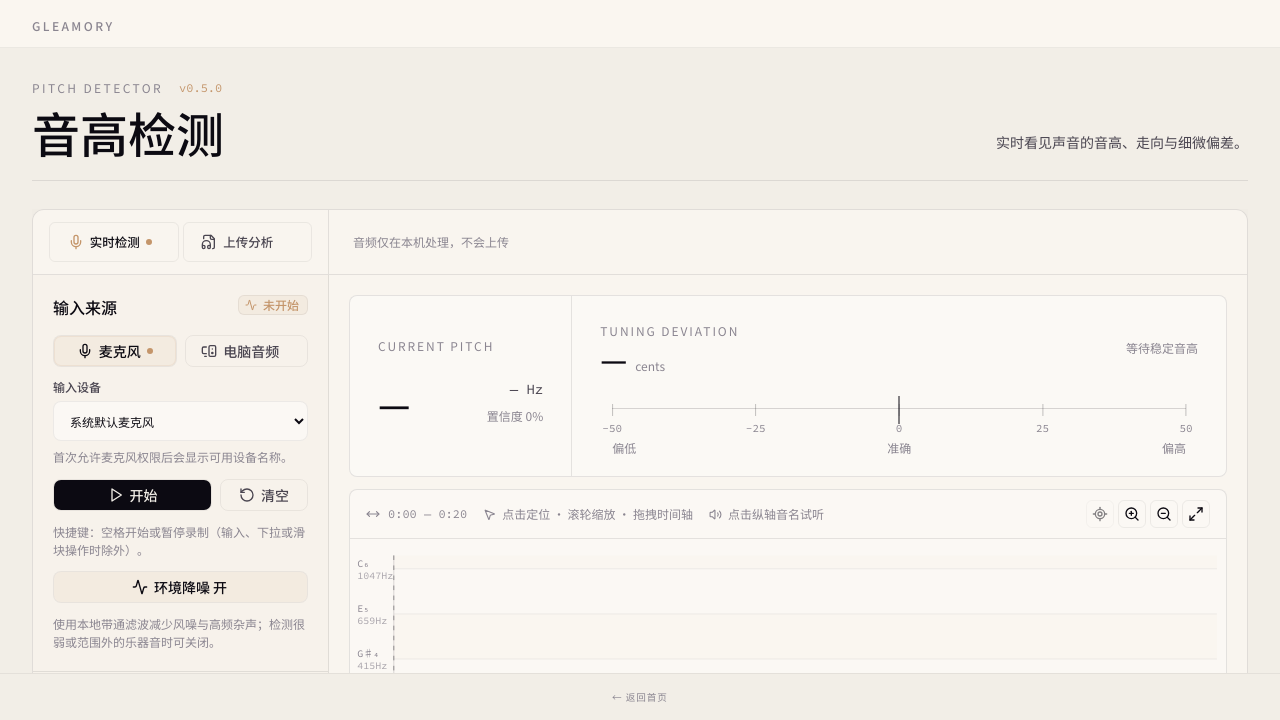
Test: PitchDetectorPage › updates the live cursor on animation frames between pitch analysis samples
Click the button "开始": (132, 494) 53,478 -> 212,510
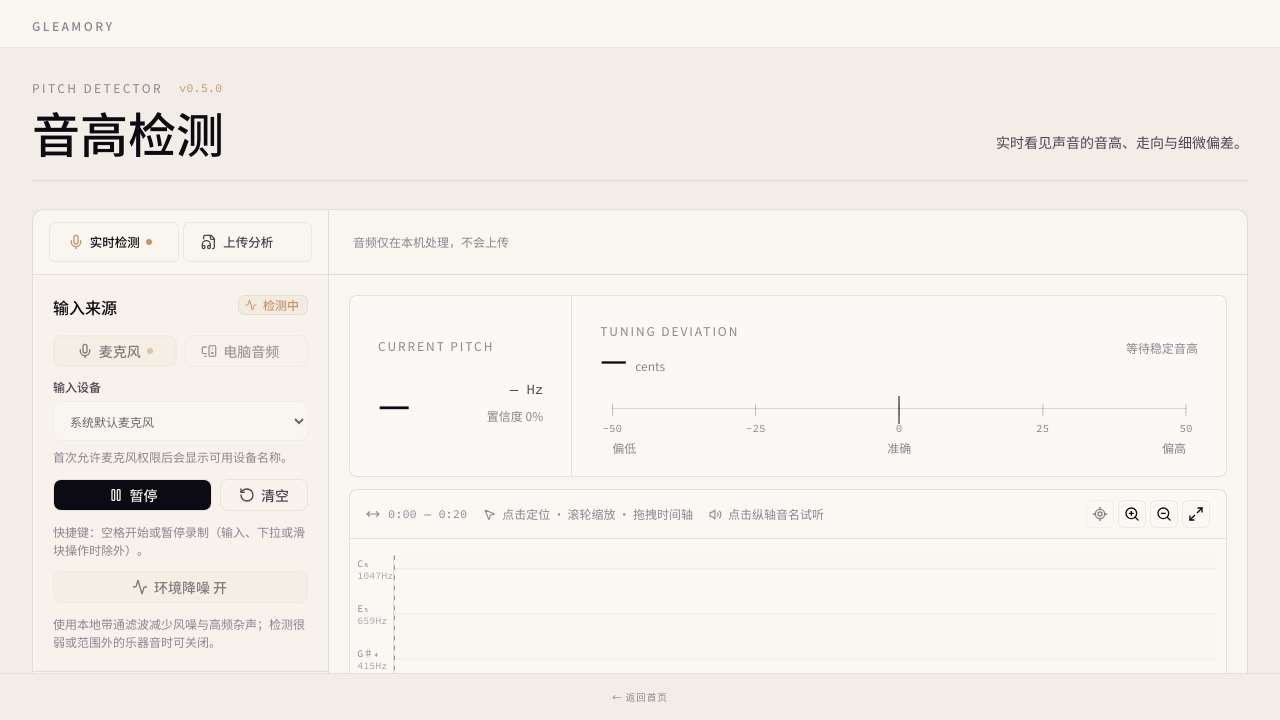
Expected: the text "检测中" is shown, 238,295 -> 308,315
